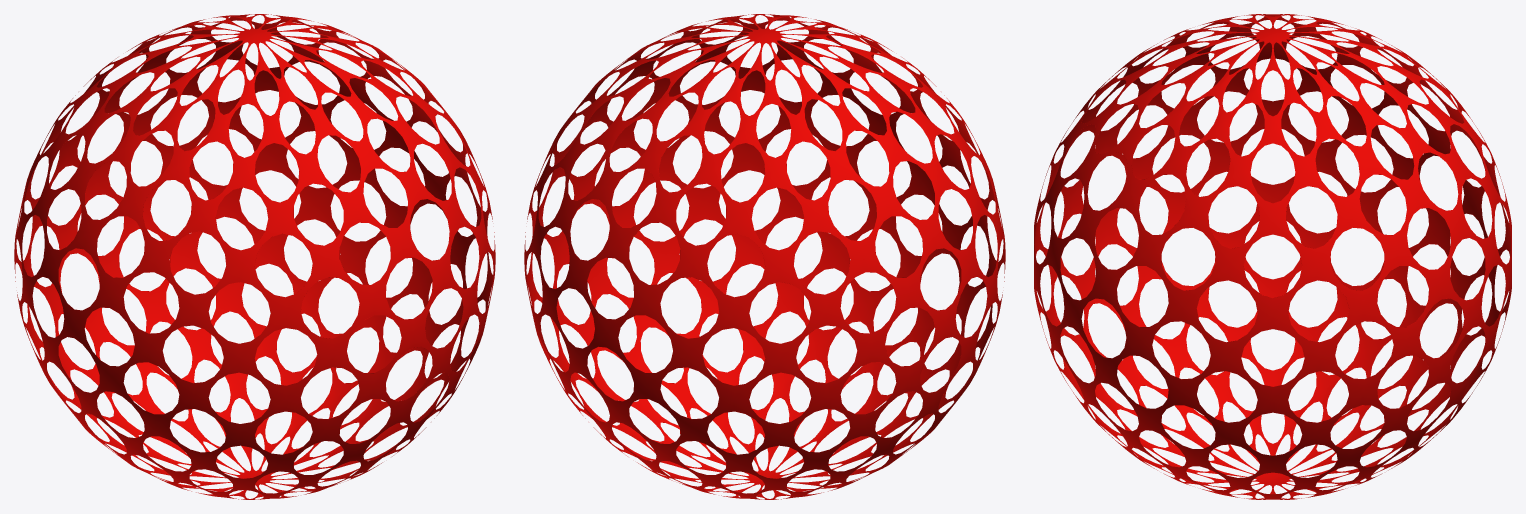
File: coreinglb.glb
The picture shows the model from 3 angles, left to right: view 1: azimuth 30°, elevation 25°; view 2: azimuth 150°, elevation 25°; view 3: azimuth 270°, elevation 25°; orthographic projection.
Parts seen in each view (by area): view 1: Sphere; view 2: Sphere; view 3: Sphere.
Boxes of the visible parts, x1,y1,x2,y2 form: Sphere: (14,14,495,499); Sphere: (524,14,1005,499); Sphere: (1034,14,1511,499).
Bounding box in the file's own units: 1.69 × 1.73 × 1.69.
